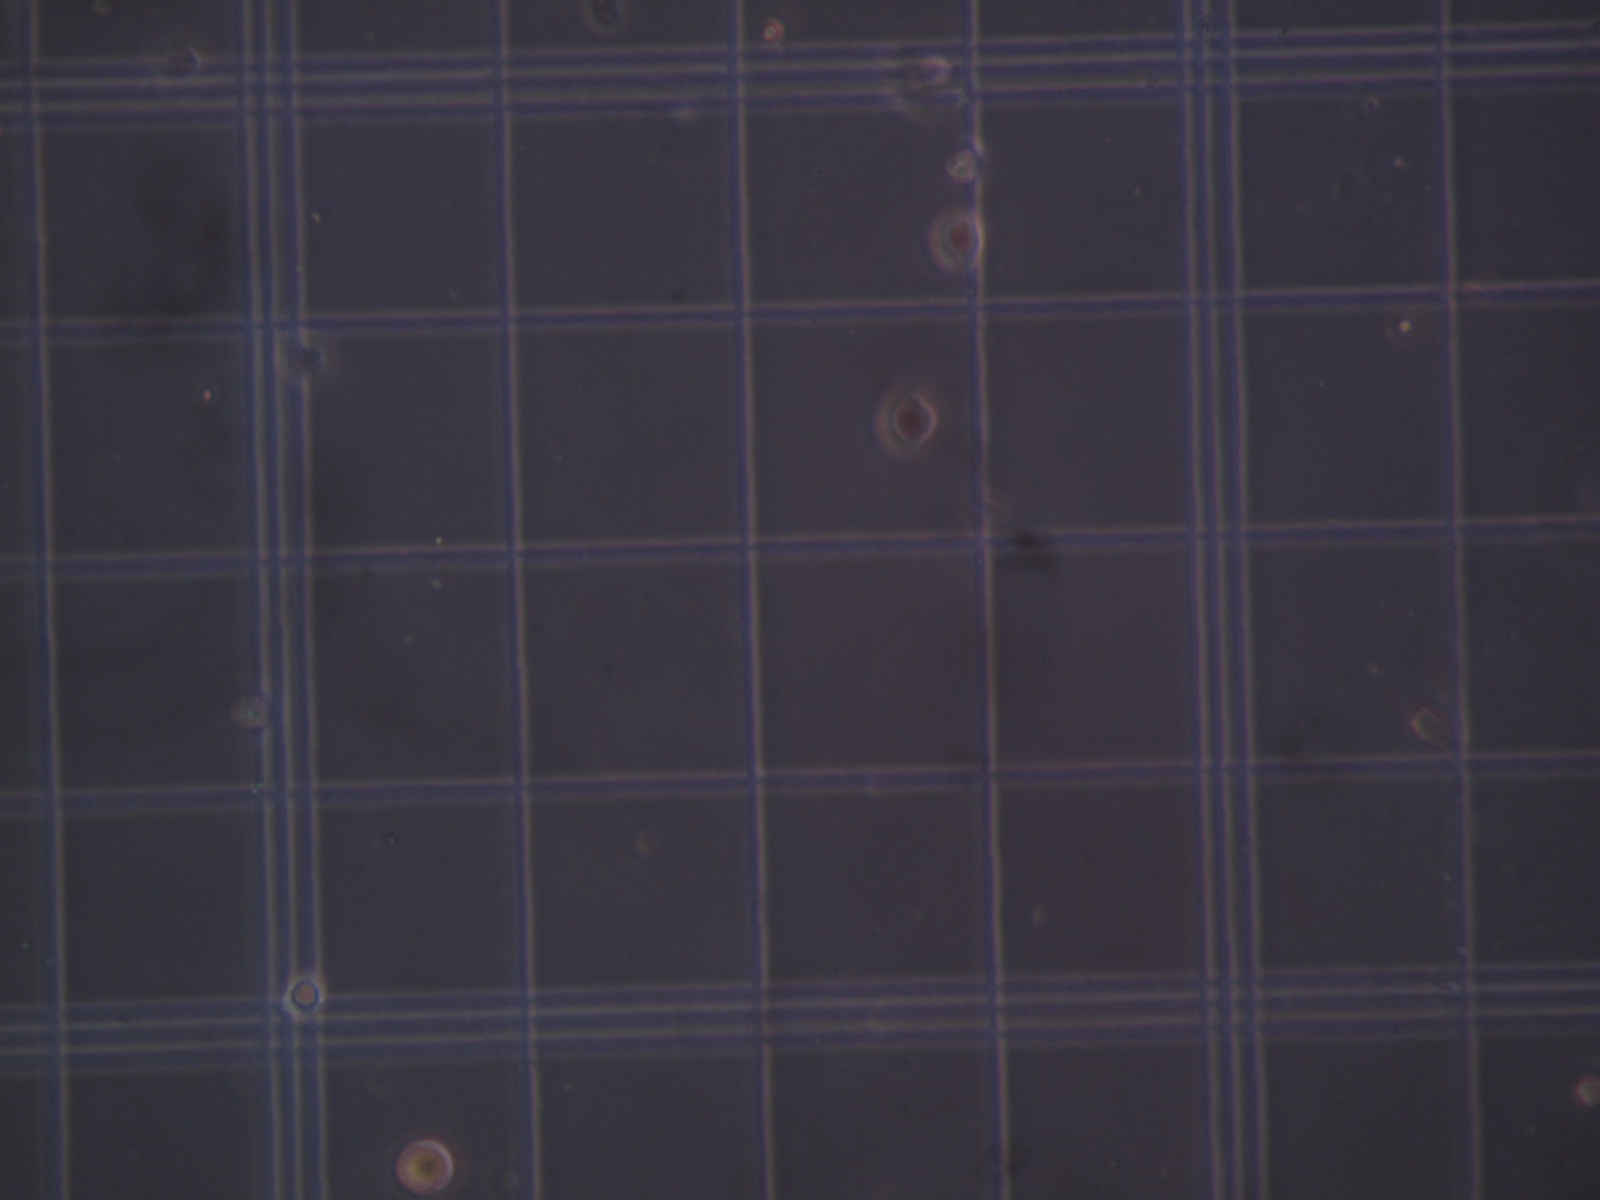hemo: (871, 37, 955, 125), (876, 383, 944, 461), (925, 211, 984, 271), (396, 1139, 455, 1195), (282, 333, 339, 386), (146, 34, 204, 84), (939, 137, 988, 194), (282, 976, 325, 1022), (583, 1, 625, 37)
